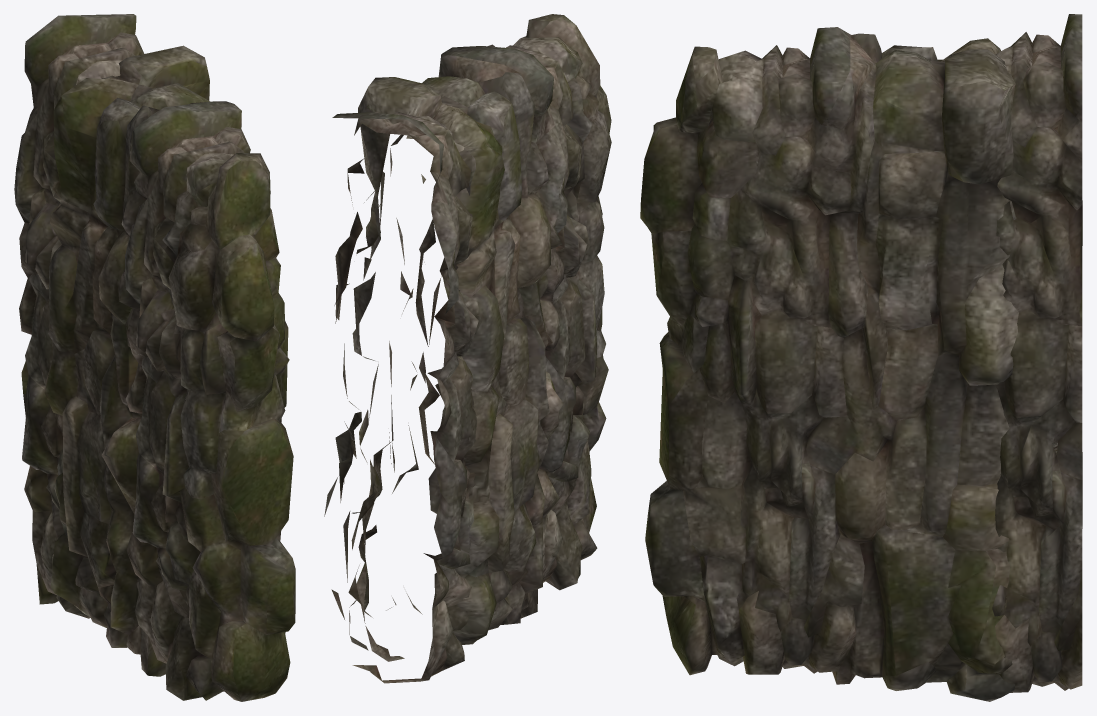
Rendered from SAX_PRO_Stone_Wall_4M_0degree_01B_LOD0-transformed.glb.
3 renders of one model, left to right at view 1: azimuth 30°, elevation 25°; view 2: azimuth 150°, elevation 25°; view 3: azimuth 270°, elevation 25°, orthographic. The views are drawn at different scales.
Visible parts, largest first — view 1: SAX_PRO_Stone_Wall_4M_0degree_01B_LOD0; view 2: SAX_PRO_Stone_Wall_4M_0degree_01B_LOD0; view 3: SAX_PRO_Stone_Wall_4M_0degree_01B_LOD0.
Boxes of the visible parts, <box> form: SAX_PRO_Stone_Wall_4M_0degree_01B_LOD0: <box>14,14,295,701</box>; SAX_PRO_Stone_Wall_4M_0degree_01B_LOD0: <box>324,14,611,683</box>; SAX_PRO_Stone_Wall_4M_0degree_01B_LOD0: <box>640,14,1082,701</box>.
Bounding box in the file's own units: 0.0124 × 0.0472 × 0.0284.
1 material, 1 textured.
